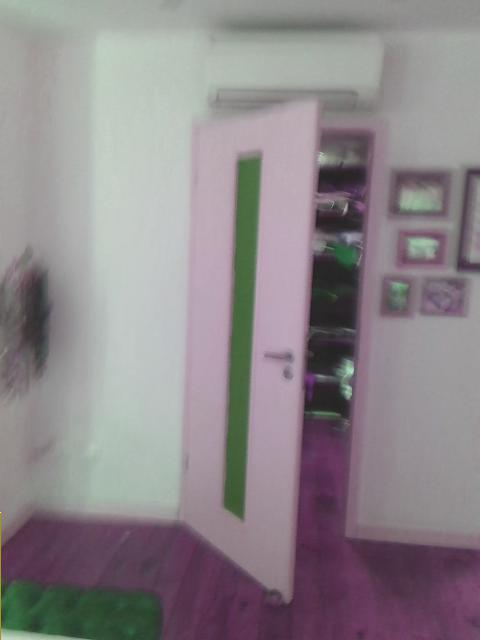semi_door: (178, 87, 382, 607)
